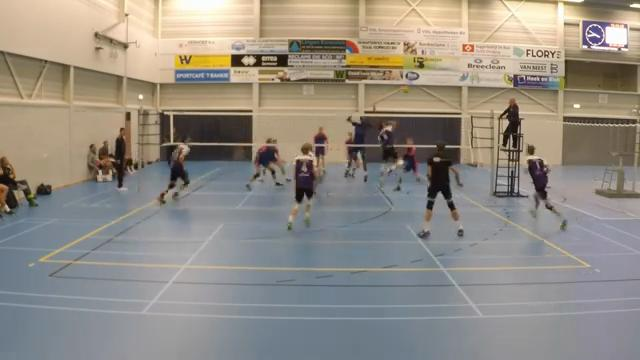Attack: (371, 114, 408, 184)
Block: (341, 110, 370, 185)
Player: (417, 143, 463, 238), (527, 145, 566, 229), (287, 143, 316, 229), (158, 144, 189, 203), (246, 139, 282, 189), (271, 139, 290, 181), (403, 138, 419, 181), (313, 127, 328, 172), (344, 132, 358, 177)
ball: (401, 83, 410, 95)
